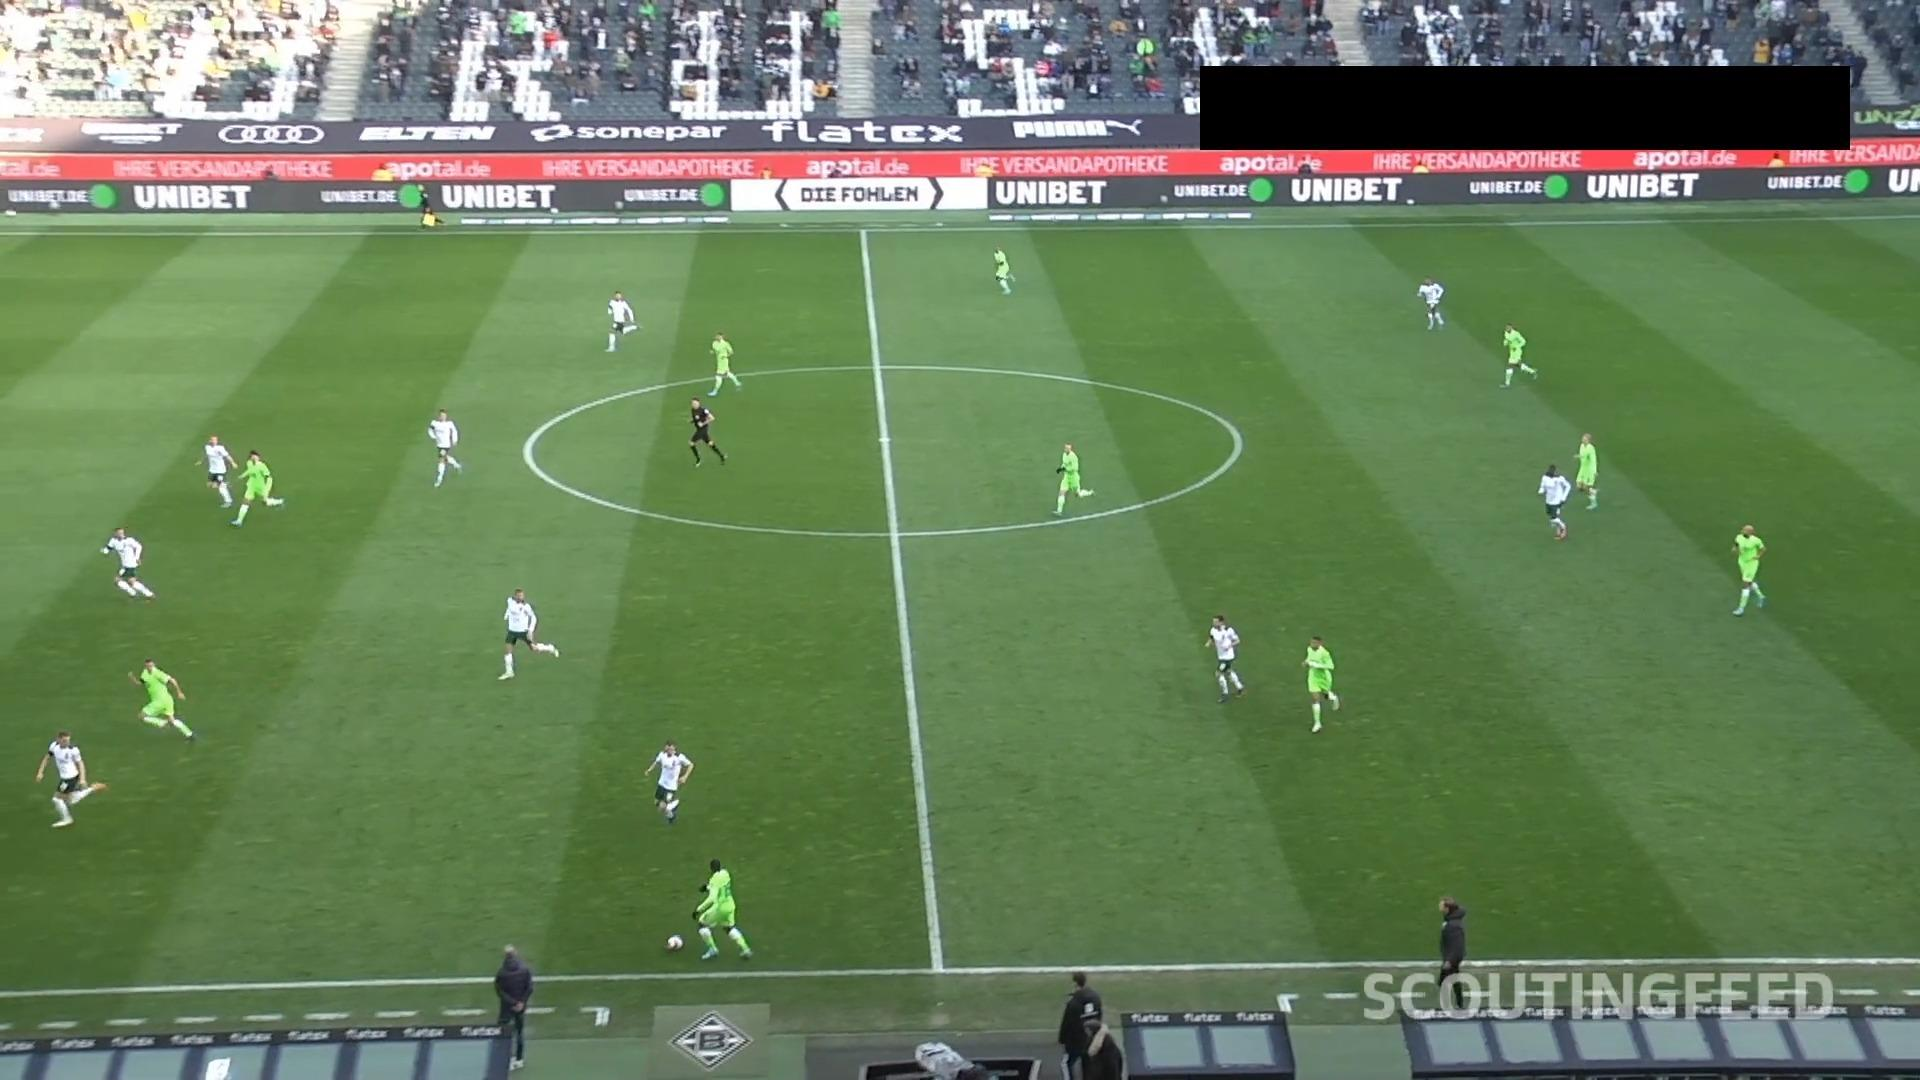ball: (666, 934, 686, 952)
